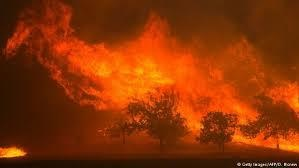fire: (26, 10, 293, 145)
